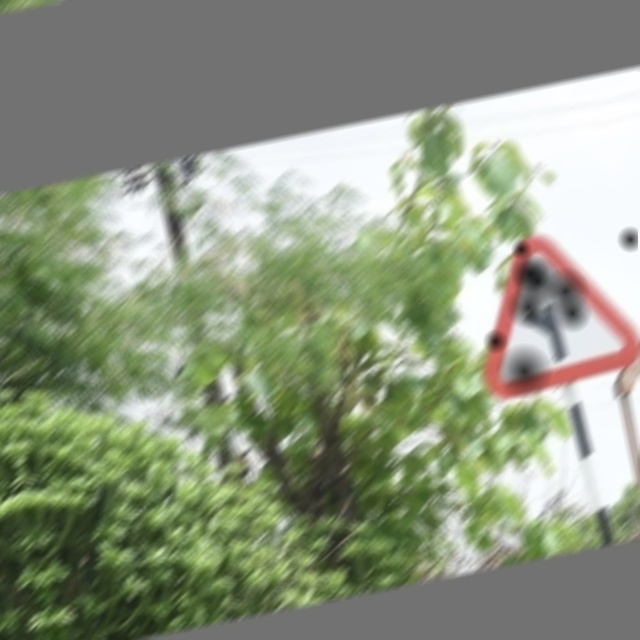Y_Intersection: (460, 222, 638, 399)
